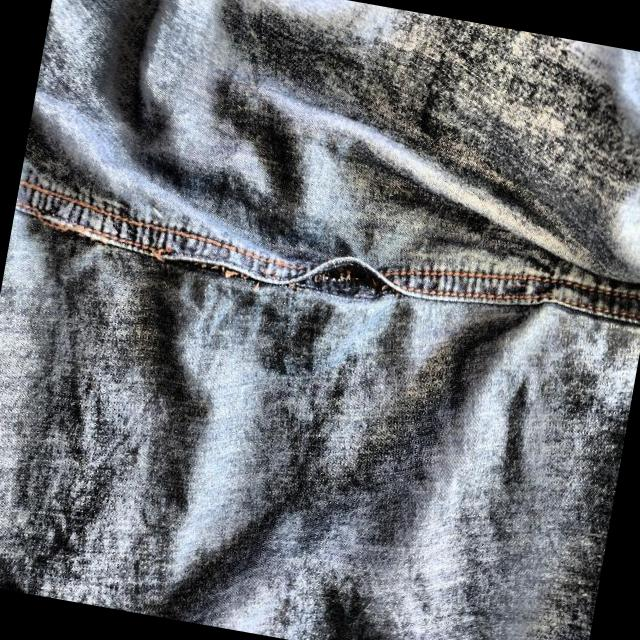gray stitch: (300, 246, 419, 316)
